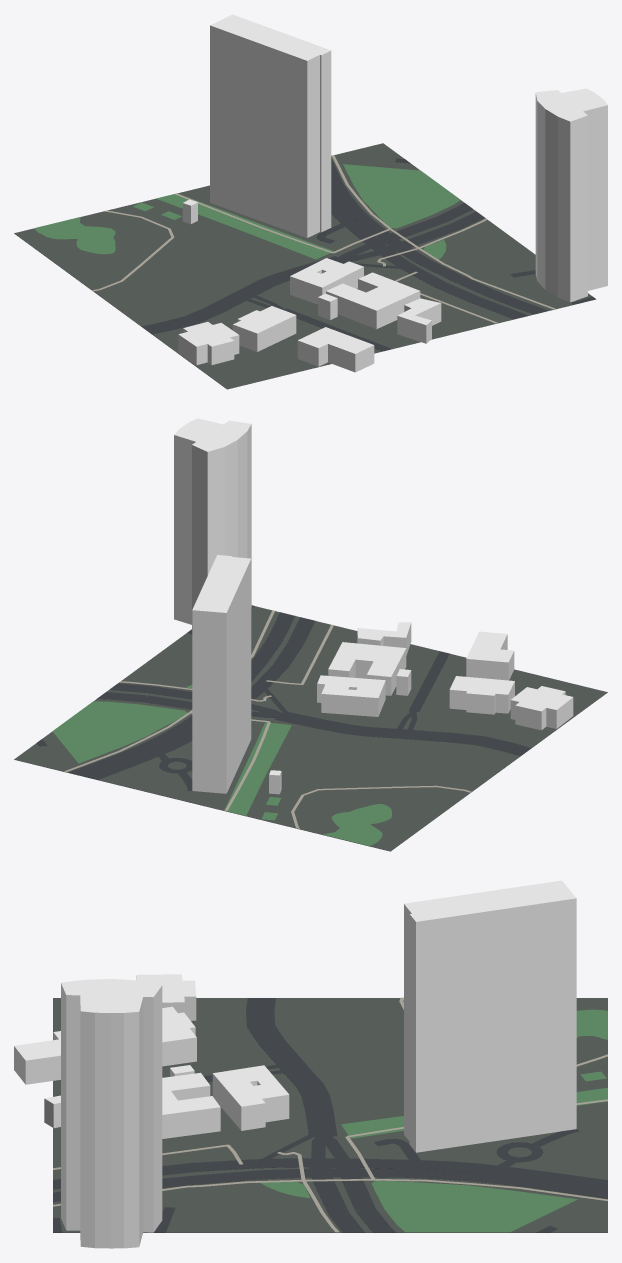
The model's file is tile_002_004.glb.
3 renders of one model, top to bottom at view 1: azimuth 30°, elevation 25°; view 2: azimuth 150°, elevation 25°; view 3: azimuth 270°, elevation 25°, orthographic. The views are drawn at different scales.
Parts seen in each view (by area): view 1: tile_002_004_buildings_residential, tile_002_004_ground, tile_002_004_roads, tile_002_004_buildings_neutral, tile_002_004_open_spaces, tile_002_004_paths; view 2: tile_002_004_ground, tile_002_004_buildings_residential, tile_002_004_roads, tile_002_004_buildings_neutral, tile_002_004_open_spaces, tile_002_004_paths; view 3: tile_002_004_buildings_residential, tile_002_004_ground, tile_002_004_roads, tile_002_004_open_spaces, tile_002_004_buildings_neutral, tile_002_004_paths.
Boxes of the visible parts, x1=… form: tile_002_004_buildings_residential: x1=210, y1=14, x2=607, y2=343; tile_002_004_ground: x1=14, y1=143, x2=595, y2=389; tile_002_004_roads: x1=141, y1=158, x2=595, y2=351; tile_002_004_buildings_neutral: x1=178, y1=199, x2=374, y2=372; tile_002_004_open_spaces: x1=35, y1=164, x2=460, y2=259; tile_002_004_paths: x1=92, y1=155, x2=555, y2=323; tile_002_004_ground: x1=14, y1=606, x2=607, y2=851; tile_002_004_buildings_residential: x1=174, y1=418, x2=411, y2=793; tile_002_004_roads: x1=36, y1=605, x2=531, y2=790; tile_002_004_buildings_neutral: x1=269, y1=631, x2=573, y2=794; tile_002_004_open_spaces: x1=52, y1=685, x2=391, y2=845; tile_002_004_paths: x1=64, y1=610, x2=471, y2=828; tile_002_004_buildings_residential: x1=44, y1=880, x2=576, y2=1248; tile_002_004_ground: x1=53, y1=998, x2=607, y2=1232; tile_002_004_roads: x1=53, y1=998, x2=607, y2=1232; tile_002_004_open_spaces: x1=260, y1=1009, x2=607, y2=1232; tile_002_004_buildings_neutral: x1=14, y1=974, x2=289, y2=1130; tile_002_004_paths: x1=53, y1=997, x2=607, y2=1232.
Bounding box in the file's own units: 267 × 117 × 268.
